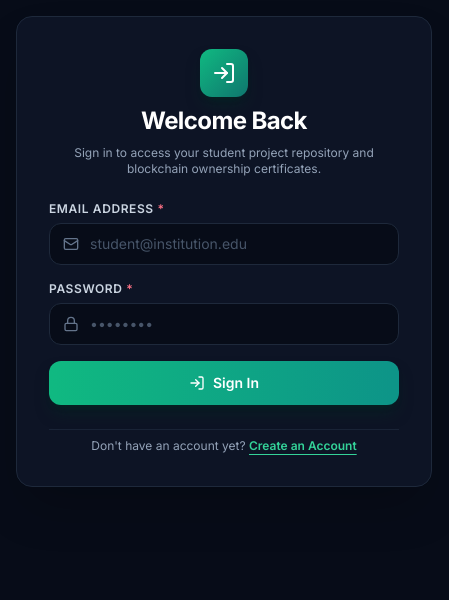
Test: Auth Pages — LoginPage & RegisterPage › LoginPage › shows client-side validation error when submitting empty email
What coordinates should you click on to do the following:
click the button "Sign In"
I would click on:
 (224, 383)
Its box is [49,361,399,405].
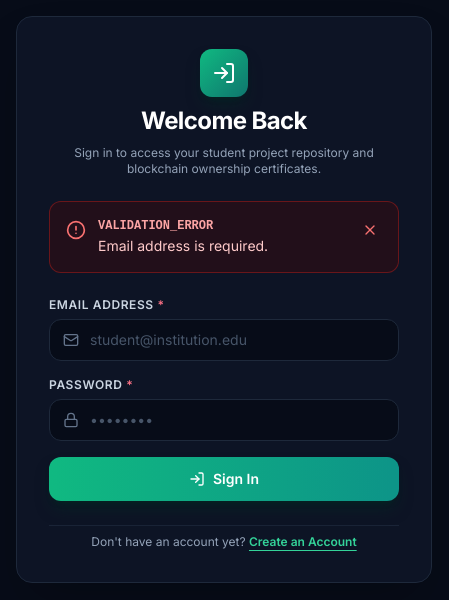
expect the text "Email address is required." is shown: met, box [98,236,268,256]
